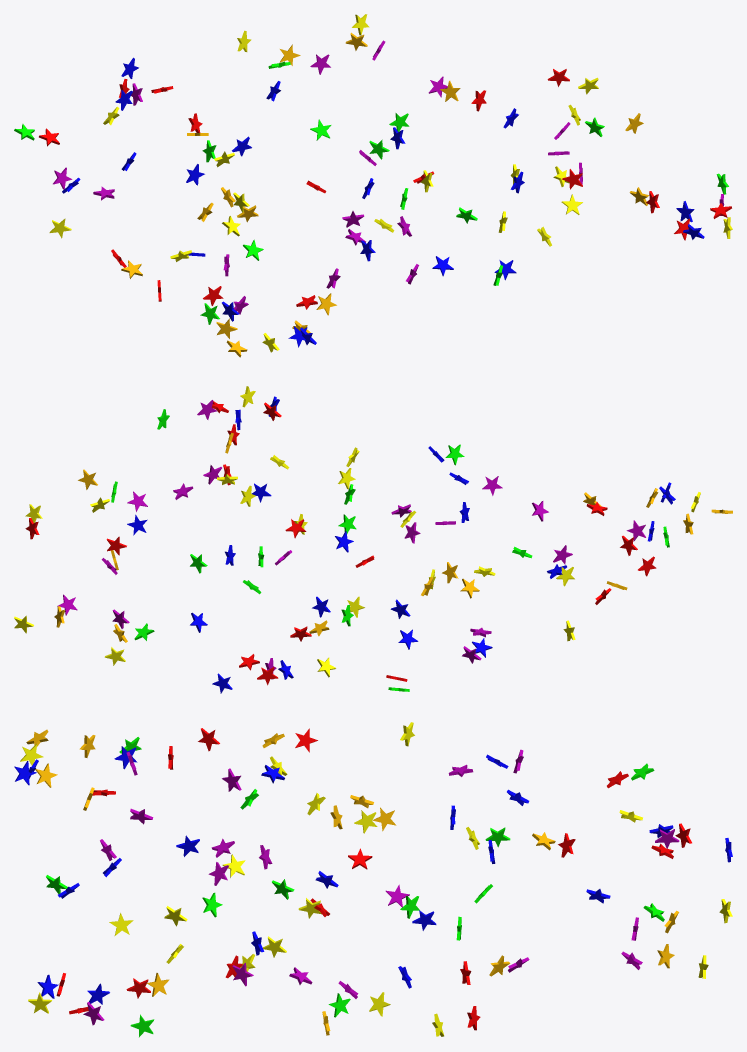
File: rainbow_square2.glb
The picture shows the model from 3 angles, top to bottom: view 1: azimuth 30°, elevation 25°; view 2: azimuth 150°, elevation 25°; view 3: azimuth 270°, elevation 25°; orthographic projection. The views are drawn at different scales.
Size of the model in its own units: 2.22 by 0.0805 by 2.24.
